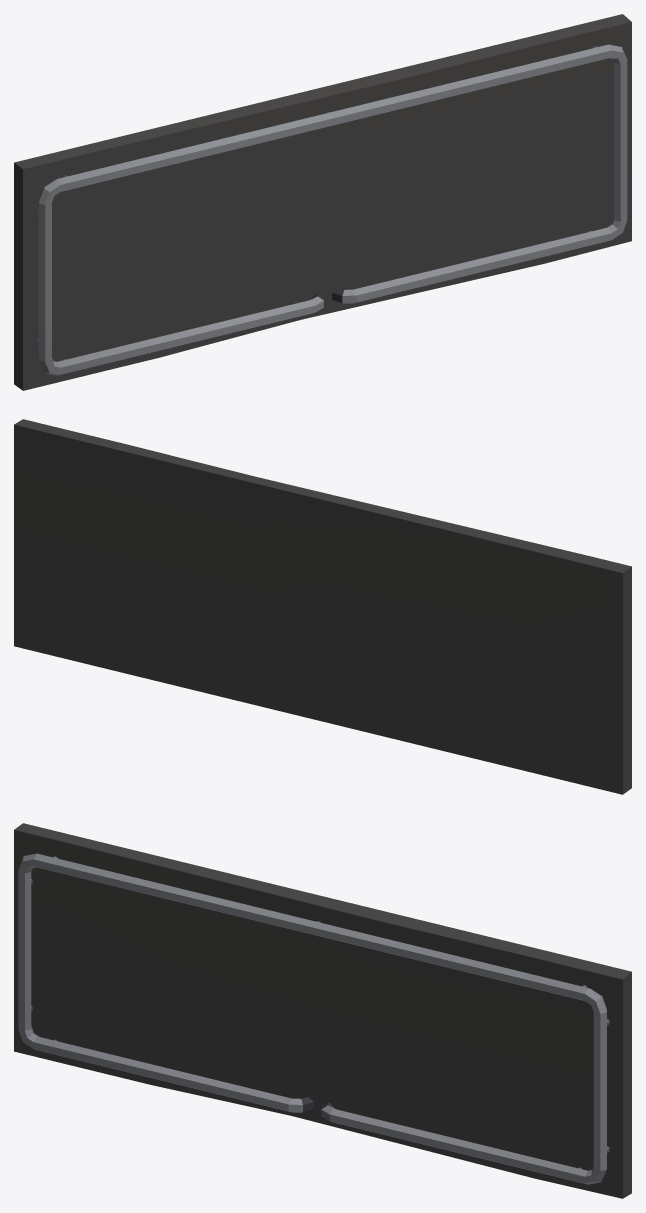
File: SM_Sign_Backing_Short_04.obj
The picture shows the model from 3 angles, top to bottom: view 1: azimuth 30°, elevation 25°; view 2: azimuth 150°, elevation 25°; view 3: azimuth 330°, elevation 25°; orthographic projection.
Visible parts, largest first — view 1: SM_Sign_Backing_Short_04_0; view 2: SM_Sign_Backing_Short_04_0; view 3: SM_Sign_Backing_Short_04_0.
Boxes of the visible parts, x1,y1,x2,y2 form: SM_Sign_Backing_Short_04_0: [14, 14, 631, 390]; SM_Sign_Backing_Short_04_0: [14, 419, 631, 794]; SM_Sign_Backing_Short_04_0: [14, 823, 631, 1198].
Size of the model in its own units: 5.51 by 1.92 by 0.2833.
1 material, 1 textured.
